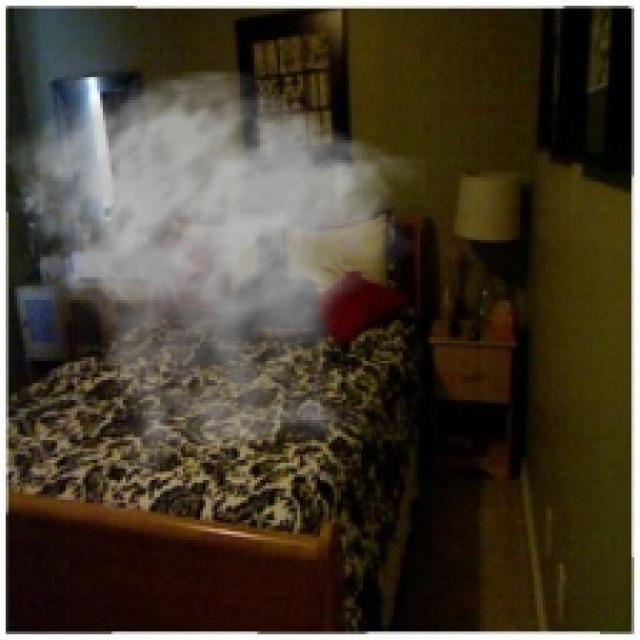Smoke: (3, 68, 426, 486)
